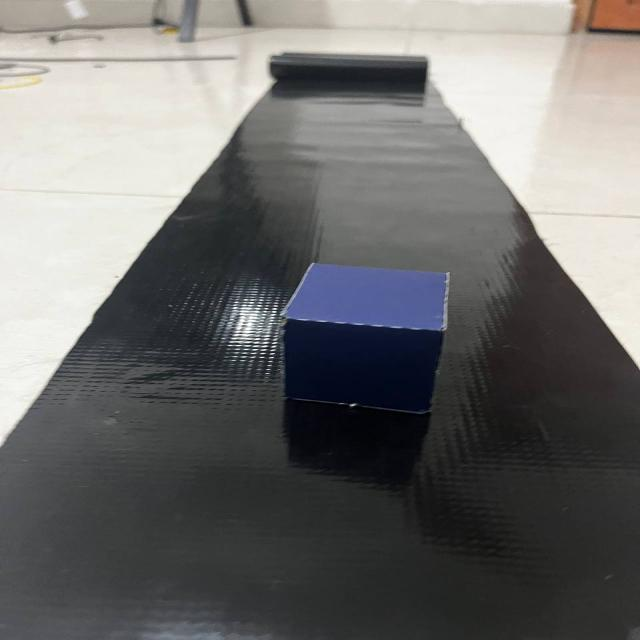Azul: (264, 241, 480, 436)
